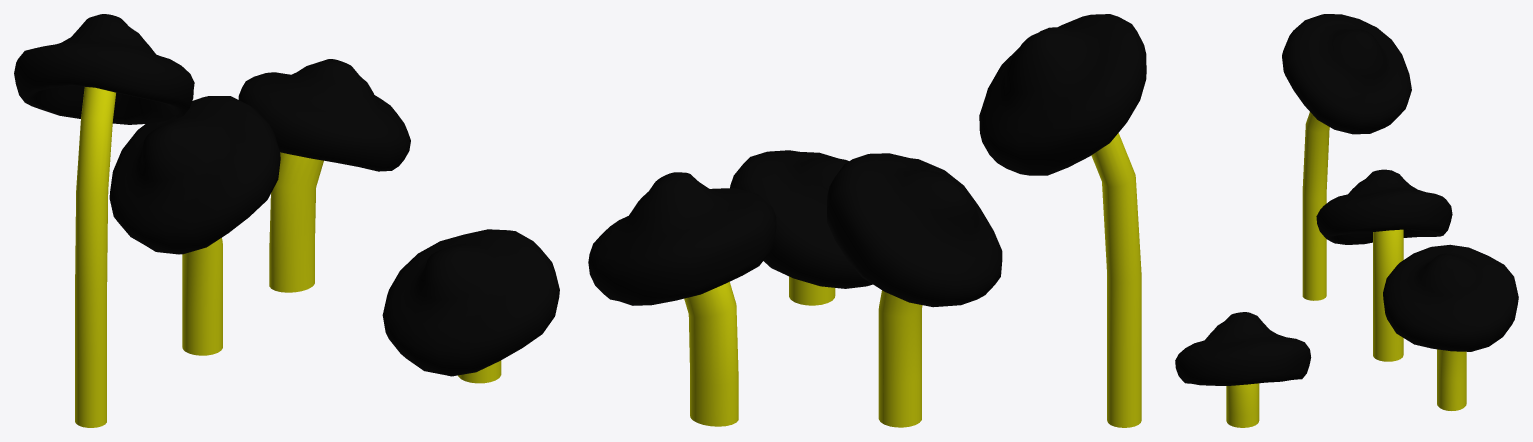
Rendered from Mushroom_individuals_lp.fbx.
3 views of the same model, side by side, from view 1: azimuth 30°, elevation 25°; view 2: azimuth 150°, elevation 25°; view 3: azimuth 270°, elevation 25° (orthographic). The views are drawn at different scales.
Parts seen in each view (by area): view 1: Mushroom7, Mushroom8, Mushroom6, Mushroom5; view 2: Mushroom8, Mushroom7, Mushroom5, Mushroom6; view 3: Mushroom8, Mushroom5, Mushroom7, Mushroom6.
Part boxes in pixels (x1,y1,x2,y2): Mushroom7: [109, 96, 280, 355]; Mushroom8: [14, 14, 194, 427]; Mushroom6: [382, 229, 559, 383]; Mushroom5: [238, 59, 410, 292]; Mushroom8: [979, 14, 1146, 427]; Mushroom7: [827, 153, 1002, 427]; Mushroom5: [588, 172, 776, 426]; Mushroom6: [730, 150, 872, 305]; Mushroom8: [1282, 14, 1411, 300]; Mushroom5: [1383, 244, 1518, 410]; Mushroom7: [1316, 169, 1452, 361]; Mushroom6: [1175, 312, 1311, 427].
Bounding box in the file's own units: 0.5254 × 0.4222 × 0.4678.
